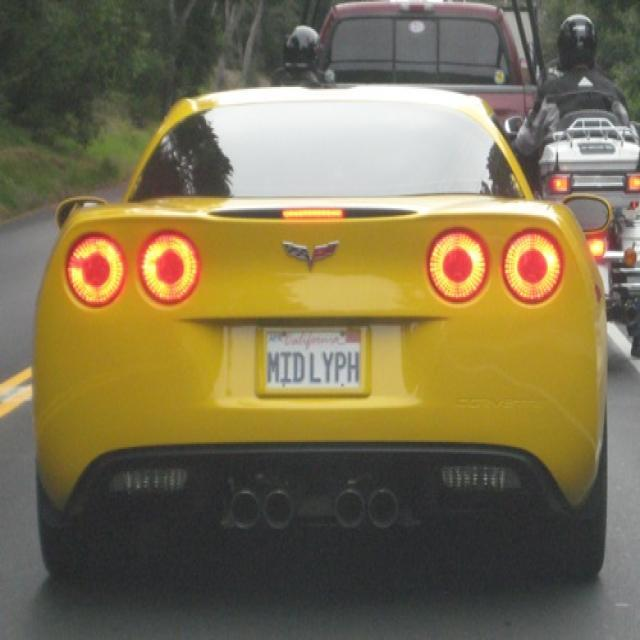car: (32, 82, 612, 584)
license: (254, 324, 371, 396)
